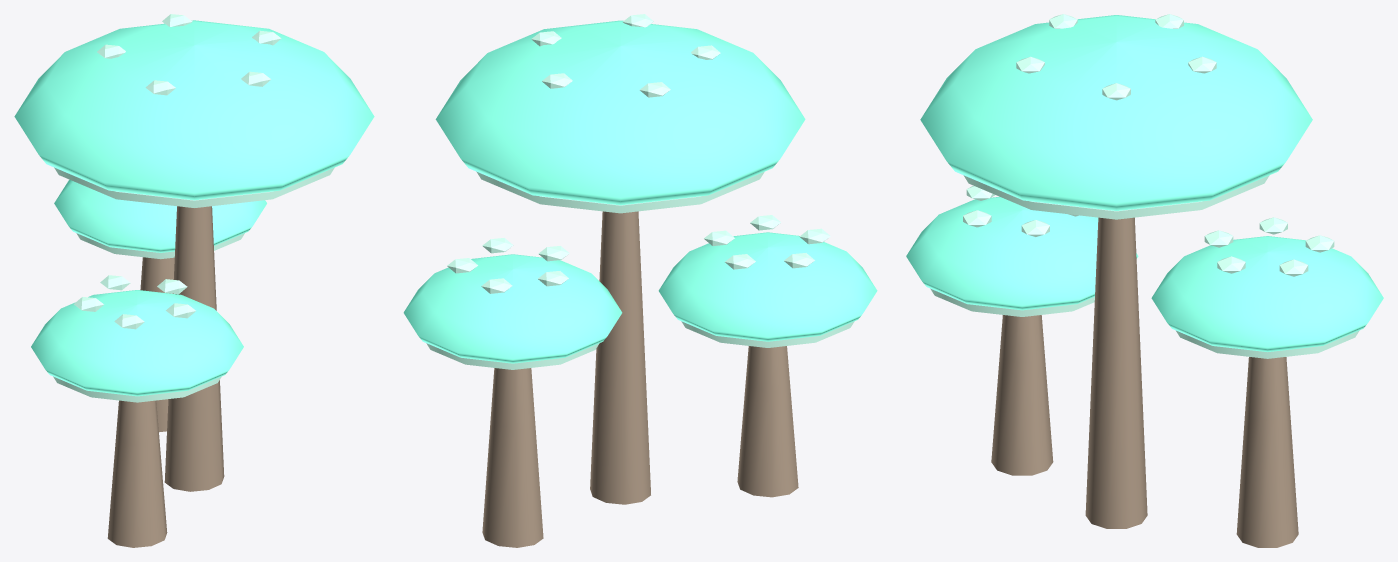
The model's file is glowcap.glb.
The picture shows the model from 3 angles, left to right: view 1: azimuth 30°, elevation 25°; view 2: azimuth 150°, elevation 25°; view 3: azimuth 270°, elevation 25°; orthographic projection. The views are drawn at different scales.
Visible parts, largest first — view 1: Vesper / glowcap; view 2: Vesper / glowcap; view 3: Vesper / glowcap.
Boxes of the visible parts, x1=… form: Vesper / glowcap: x1=14, y1=14, x2=374, y2=547; Vesper / glowcap: x1=403, y1=14, x2=877, y2=547; Vesper / glowcap: x1=906, y1=14, x2=1383, y2=547.
Size of the model in its own units: 1.7 by 2.02 by 1.85.
